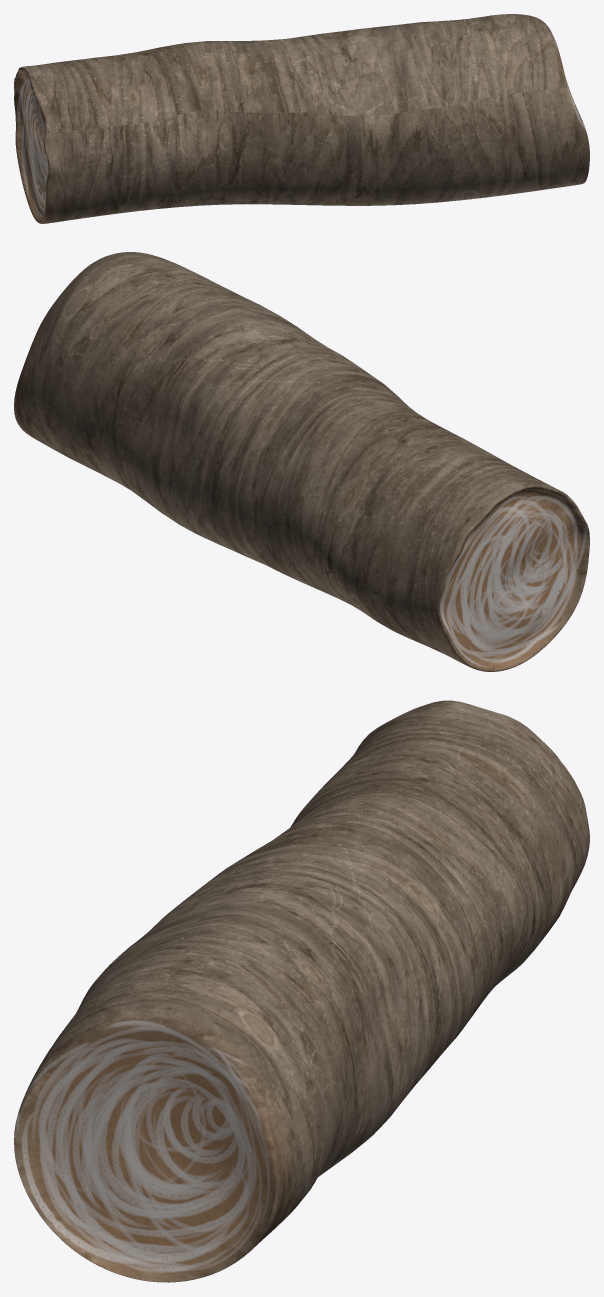
3 renders of one model, top to bottom at view 1: azimuth 30°, elevation 25°; view 2: azimuth 150°, elevation 25°; view 3: azimuth 270°, elevation 25°, orthographic. The views are drawn at different scales.
Visible parts, largest first — view 1: Tronco1; view 2: Tronco1; view 3: Tronco1.
Part boxes in pixels (left/top/right/bottom): Tronco1: left=14, top=14, right=589, bottom=223; Tronco1: left=14, top=252, right=589, bottom=671; Tronco1: left=14, top=700, right=589, bottom=1282.
Bounding box in the file's own units: 1.48 × 0.4818 × 0.9453.
Materials: 1 (1 with a texture image).
